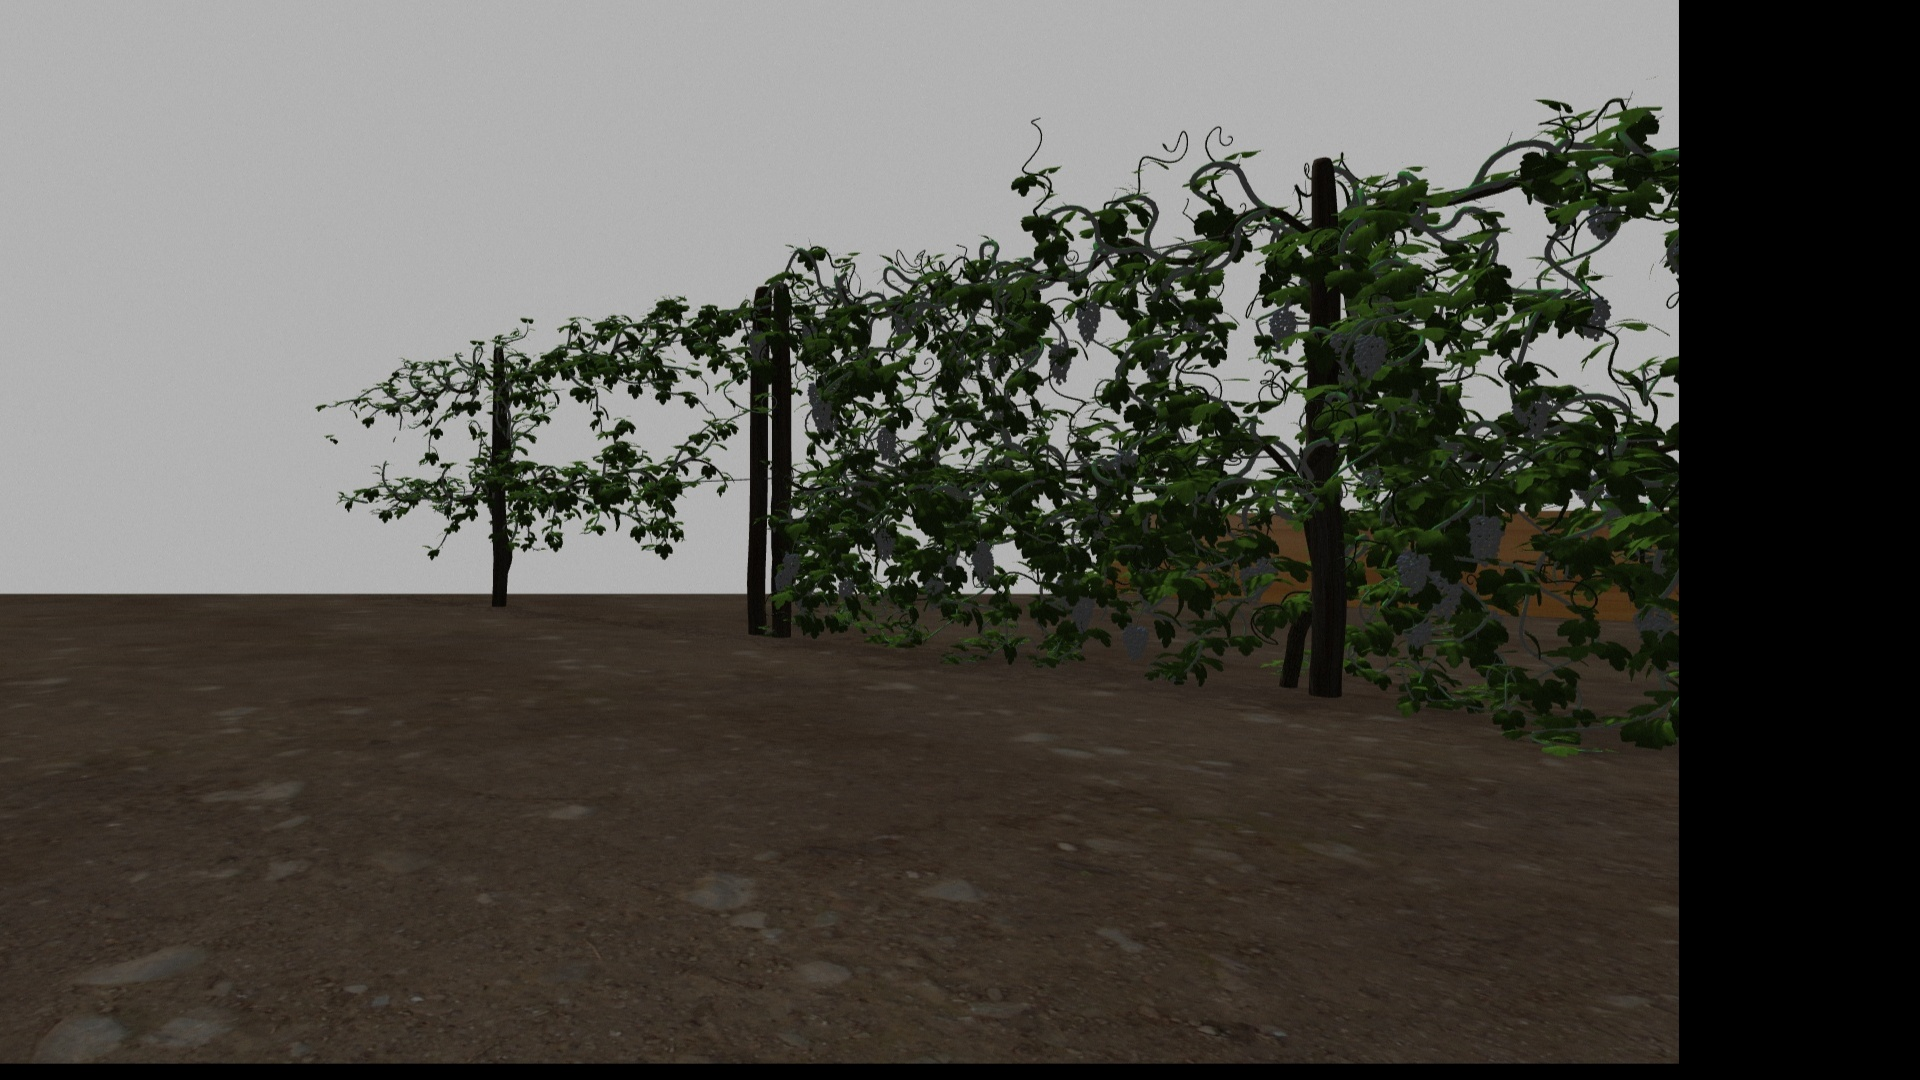grape: (1466, 516, 1503, 566), (1394, 550, 1429, 599), (1352, 334, 1389, 378), (1510, 394, 1548, 435), (1238, 560, 1276, 599), (1635, 604, 1672, 644), (1580, 295, 1610, 342), (1431, 576, 1461, 620), (1584, 204, 1619, 240), (1269, 309, 1298, 352), (1073, 302, 1101, 345), (1046, 342, 1072, 385), (1120, 626, 1150, 663), (969, 542, 996, 584), (872, 526, 899, 560), (1071, 595, 1096, 632), (811, 398, 833, 433), (1404, 622, 1432, 650), (876, 426, 897, 460), (746, 330, 767, 363), (782, 553, 800, 578), (923, 576, 945, 596), (1327, 332, 1346, 353), (773, 571, 793, 591), (837, 579, 855, 597)
